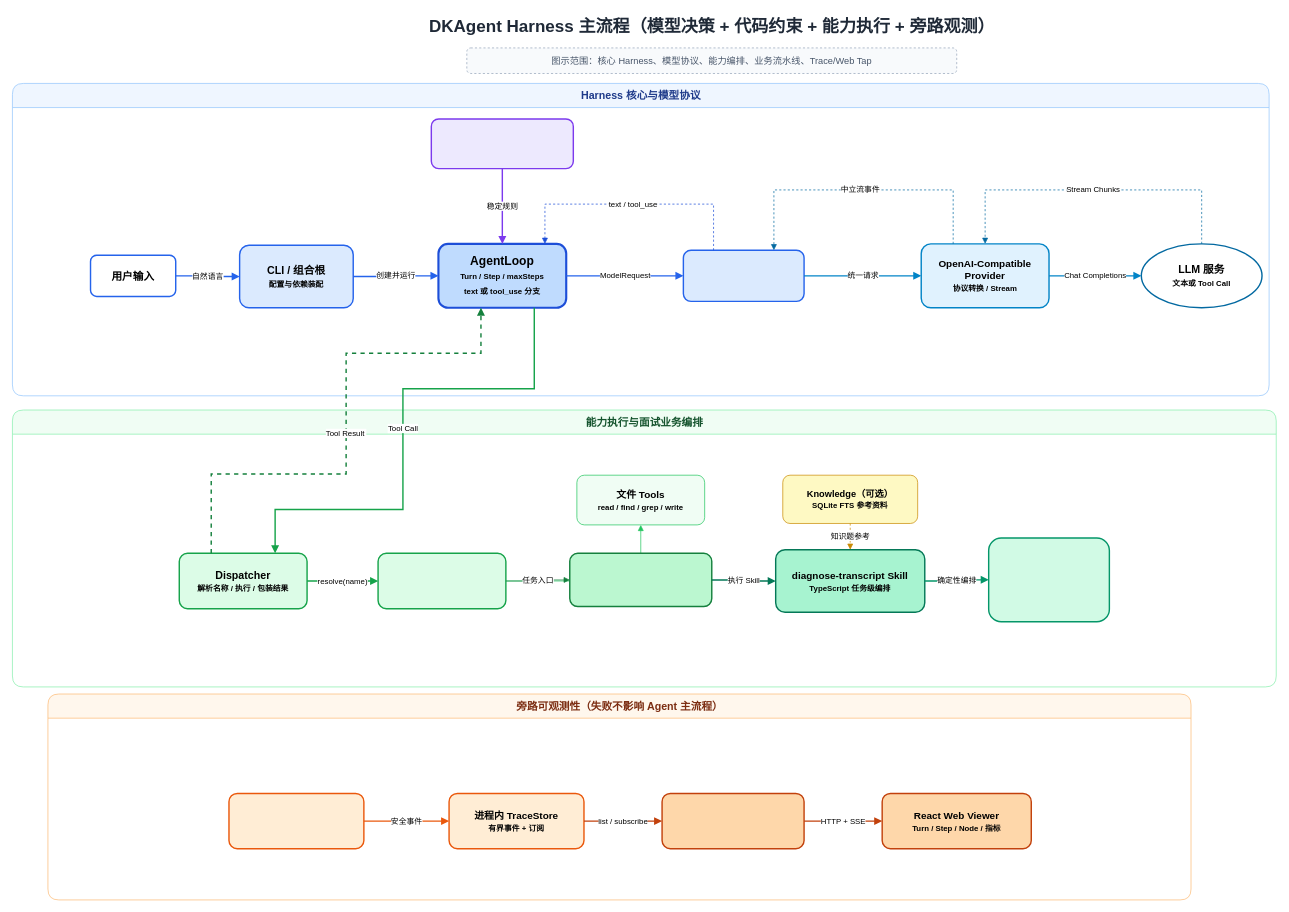
The diagram is 1289 pixels wide and 912 high, and some of its shapes have lost their labels. Each missing label, with the centre of its shape:
"analyze_interview Tool 主模型可见的任务入口" belongs at (640,579).
"QueryEngine 统一模型调用入口" belongs at (743,275).
"Stable System Prompt 身份 / 证据 / 授权原则" belongs at (502,143).
"ToolRegistry 注册实现 / 暴露 Schema" belongs at (441,580).
"Tracer Trace / Span / 脱敏 / 隔离" belongs at (296,820).
"Web Tap Server HTTP 历史 + SSE 实时" belongs at (732,820).
"面试分析流水线 解析 → 结构化 → 事实/表达/逐题 → 评分 → 报告 → 写文件" belongs at (1049,579).
